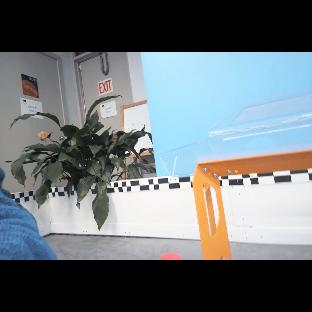Goal: (160, 88, 312, 177), (203, 122, 239, 155)
